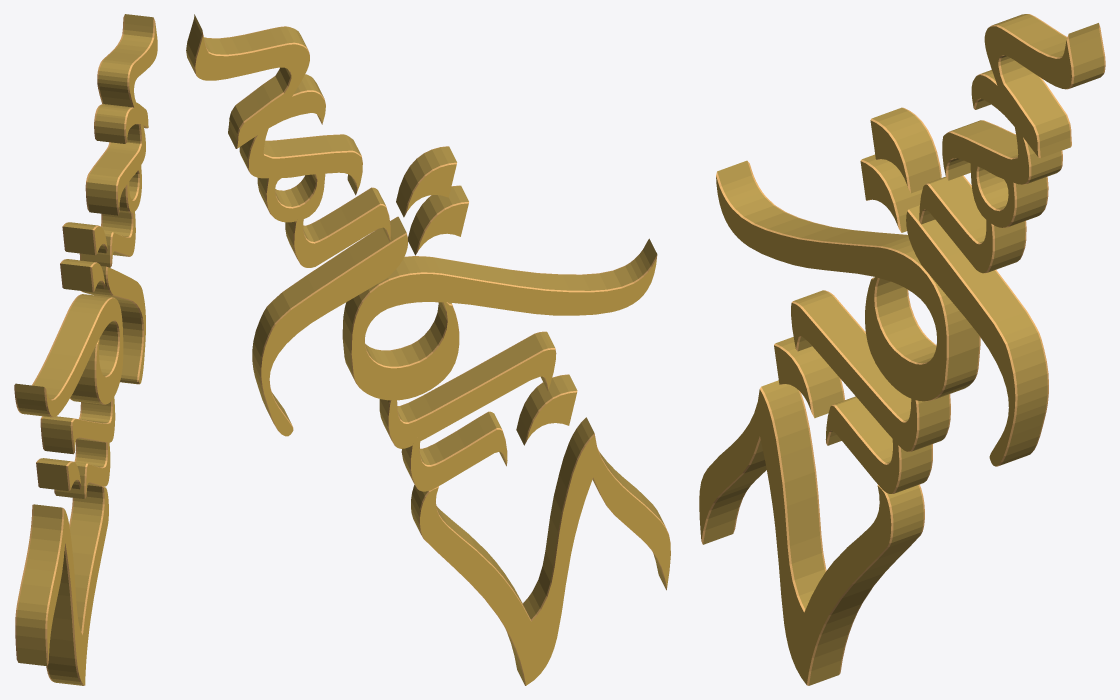
Rendered from ZILDJIAN.glb.
3 views of the same model, side by side, from view 1: azimuth 30°, elevation 25°; view 2: azimuth 150°, elevation 25°; view 3: azimuth 270°, elevation 25° (orthographic). The views are drawn at different scales.
Visible parts, largest first — view 1: _0; view 2: _0; view 3: _0.
Part boxes in pixels (x1,y1,x2,y2): _0: [14, 14, 157, 685]; _0: [186, 14, 670, 685]; _0: [699, 14, 1105, 685].
Size of the model in its own units: 3.66 by 7.34 by 3.54.
